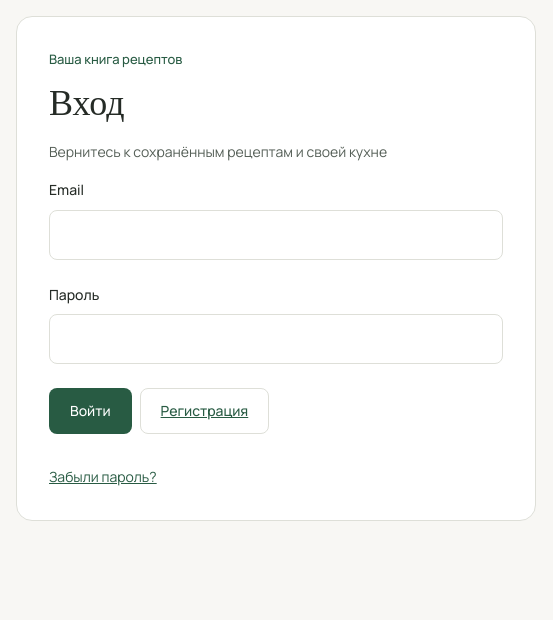
выводит ошибку входа
The width and height of the screenshot is (553, 620).
In the field labelled "Email": (276, 235) [49,210,503,260], type "author@example.test"
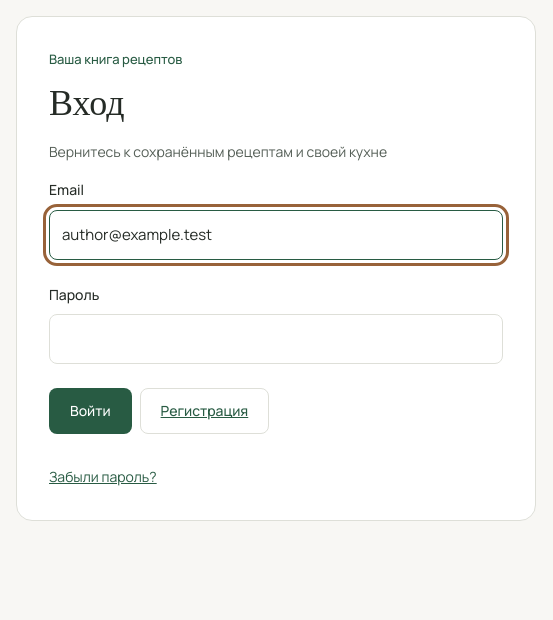
In the password field labelled "Пароль": (276, 339) [49,314,503,364], type "incorrect"
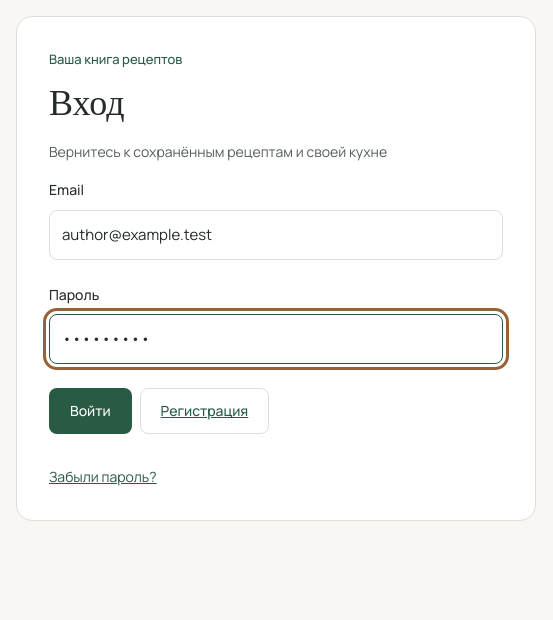
Click the button "Войти": (90, 411) [49,388,132,434]
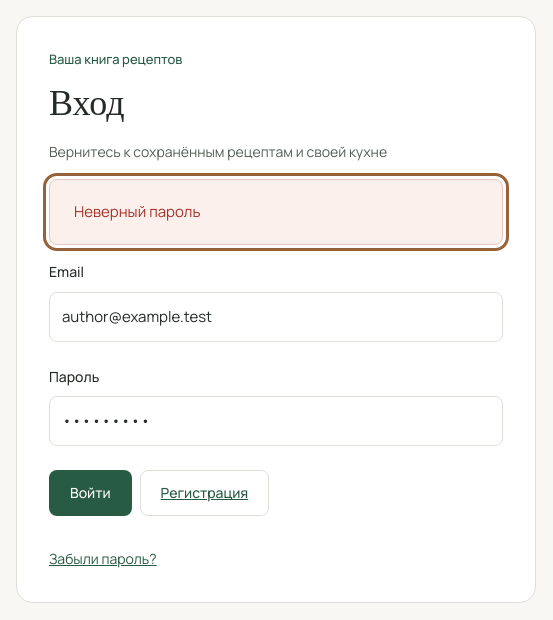
expect the message reads "Неверный пароль": met, box [74,201,200,222]
